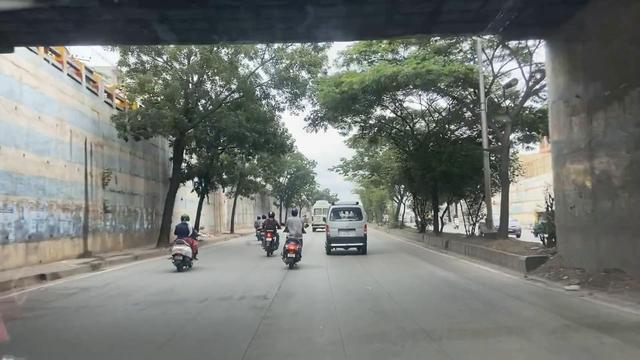LMV: (322, 200, 375, 258), (284, 203, 306, 271), (178, 218, 199, 269), (256, 206, 279, 249)
RoadDamages: (138, 291, 294, 327)
